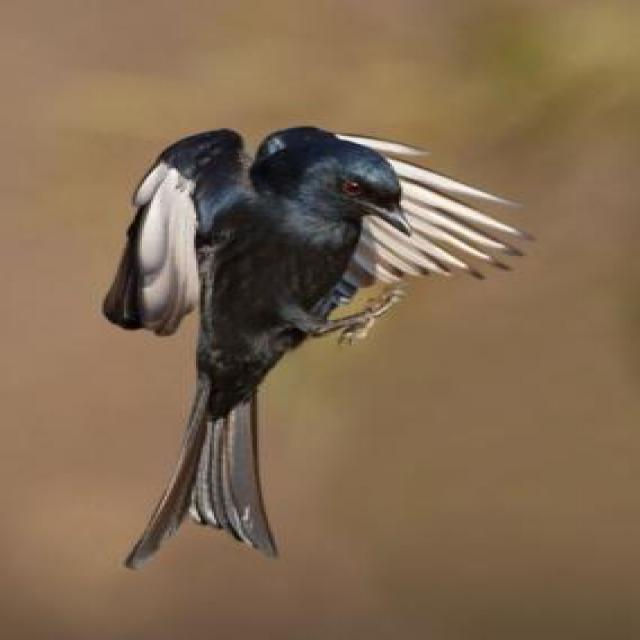birds: (58, 108, 540, 594)
